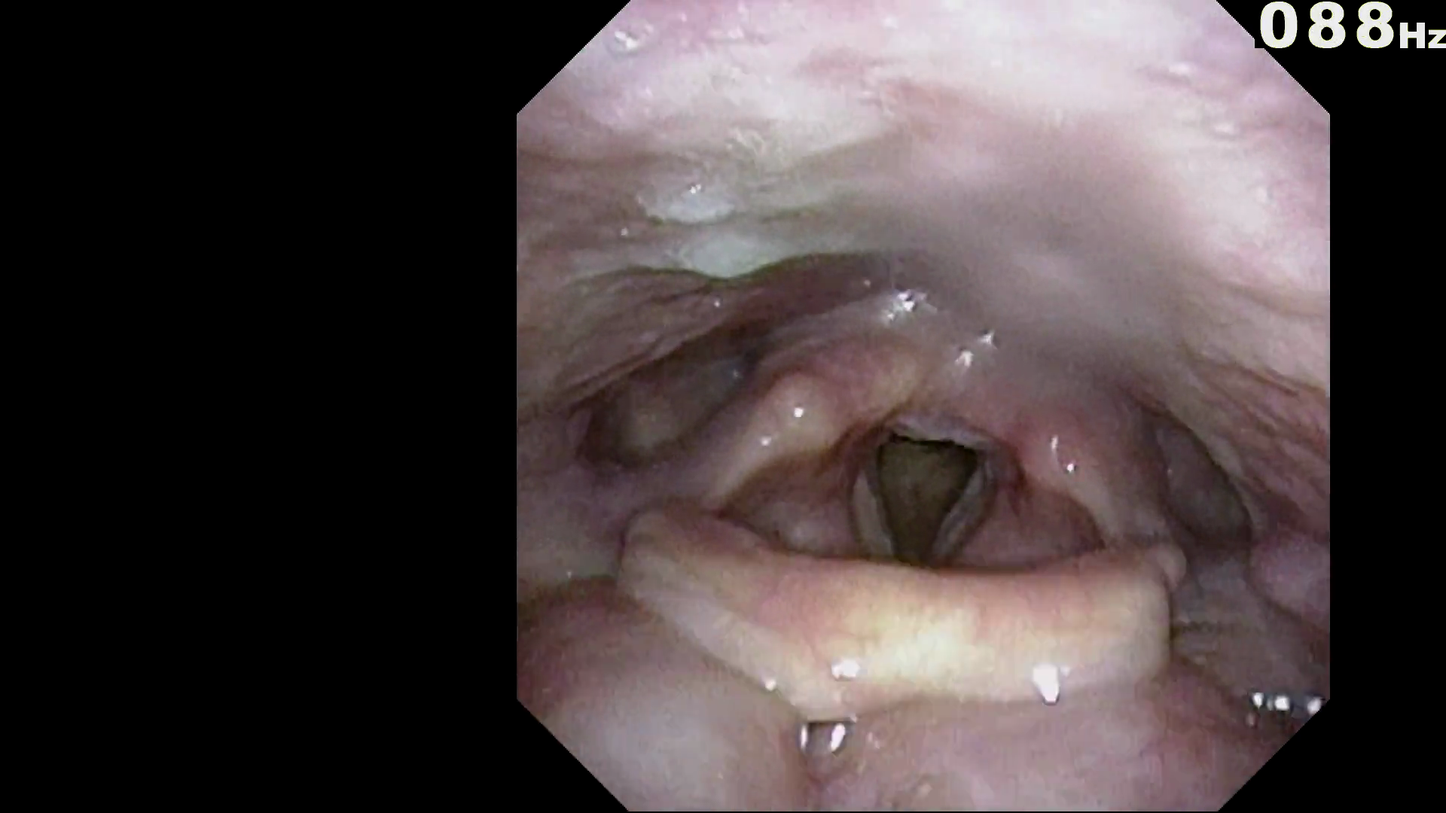epiglottis: (622, 539, 1181, 729)
trachea: (866, 426, 988, 581)
